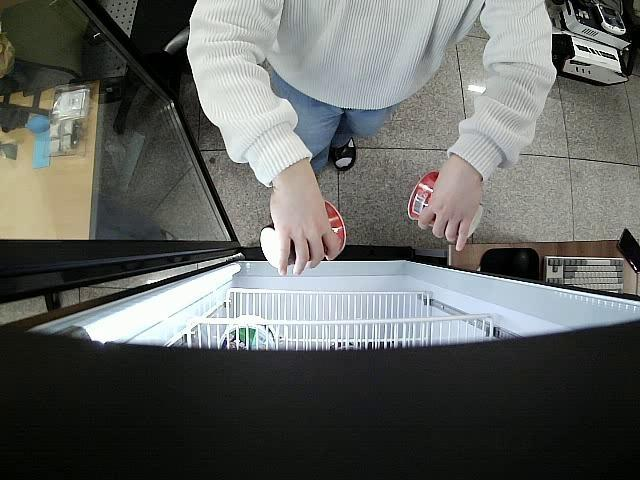02_shinRamen_S: (259, 200, 348, 269), (406, 170, 486, 239)
